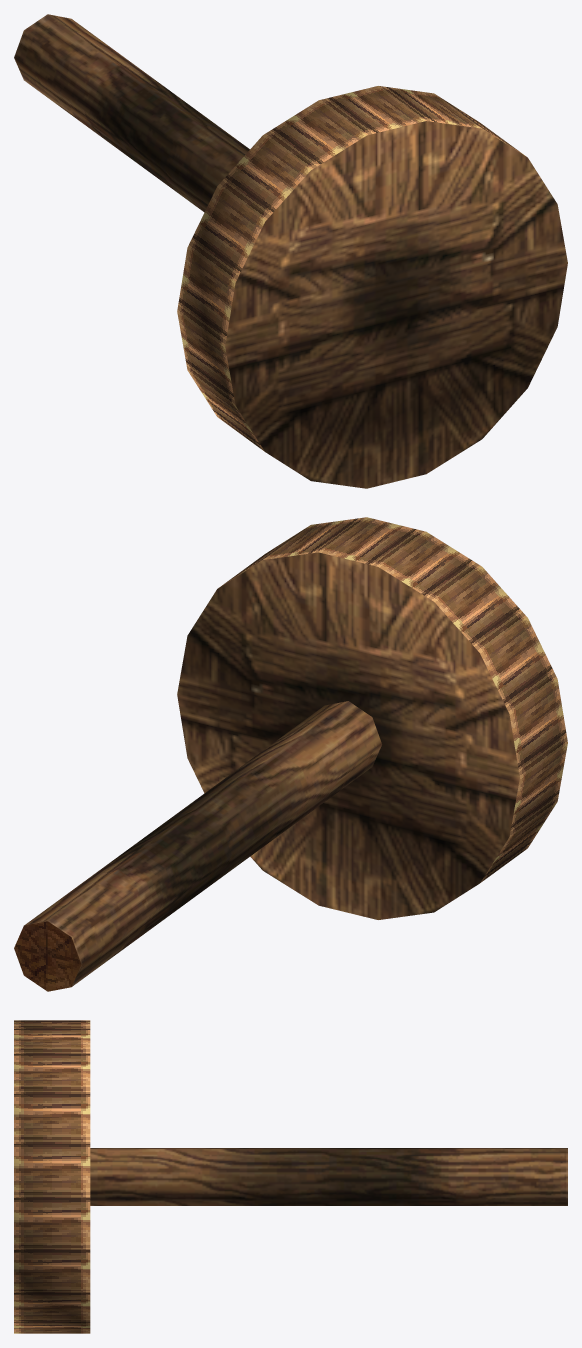
The model's file is INST_SWORDLIGHT_DRUMA.fbx.
3 views of the same model, one above another, from view 1: azimuth 30°, elevation 25°; view 2: azimuth 150°, elevation 25°; view 3: azimuth 270°, elevation 25° (orthographic). The views are drawn at different scales.
Visible parts, largest first — view 1: INST_SWORDLIGHT_DRUMA; view 2: INST_SWORDLIGHT_DRUMA; view 3: INST_SWORDLIGHT_DRUMA.
Part boxes in pixels (x1=…): INST_SWORDLIGHT_DRUMA: x1=14, y1=14, x2=567, y2=488; INST_SWORDLIGHT_DRUMA: x1=14, y1=517, x2=567, y2=991; INST_SWORDLIGHT_DRUMA: x1=14, y1=1020, x2=567, y2=1333.
Size of the model in its own units: 25400 by 25014 by 44782.
Materials: 4 (4 with a texture image).
